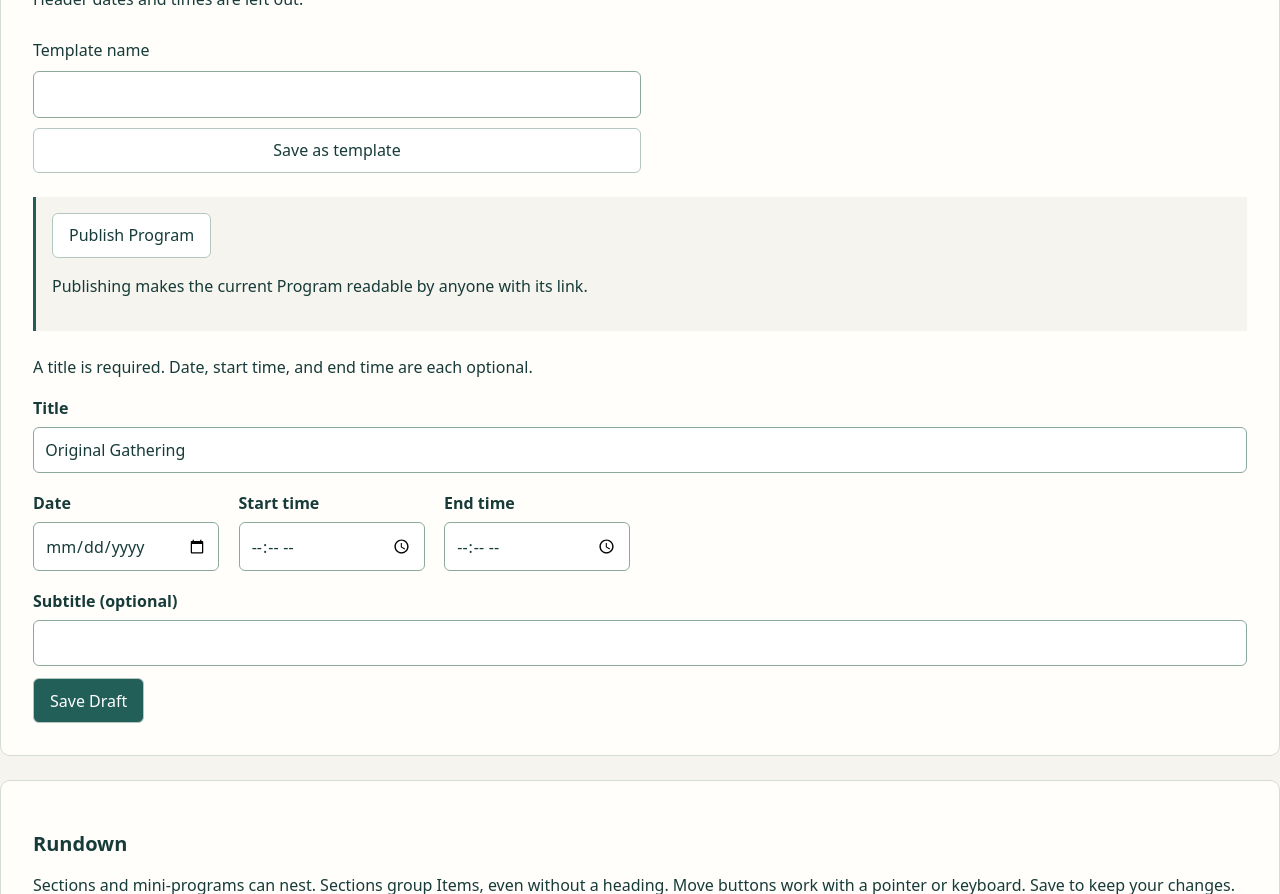
it: keeps Publish disabled until Header and rundown changes are saved
(page scrolled)
Expected: the button "Publish Program" is enabled, [52,213,211,258]
Replace the text in the field labelled "Title" with "New title" at (640, 450), box [33,427,1247,473]
(page scrolled)
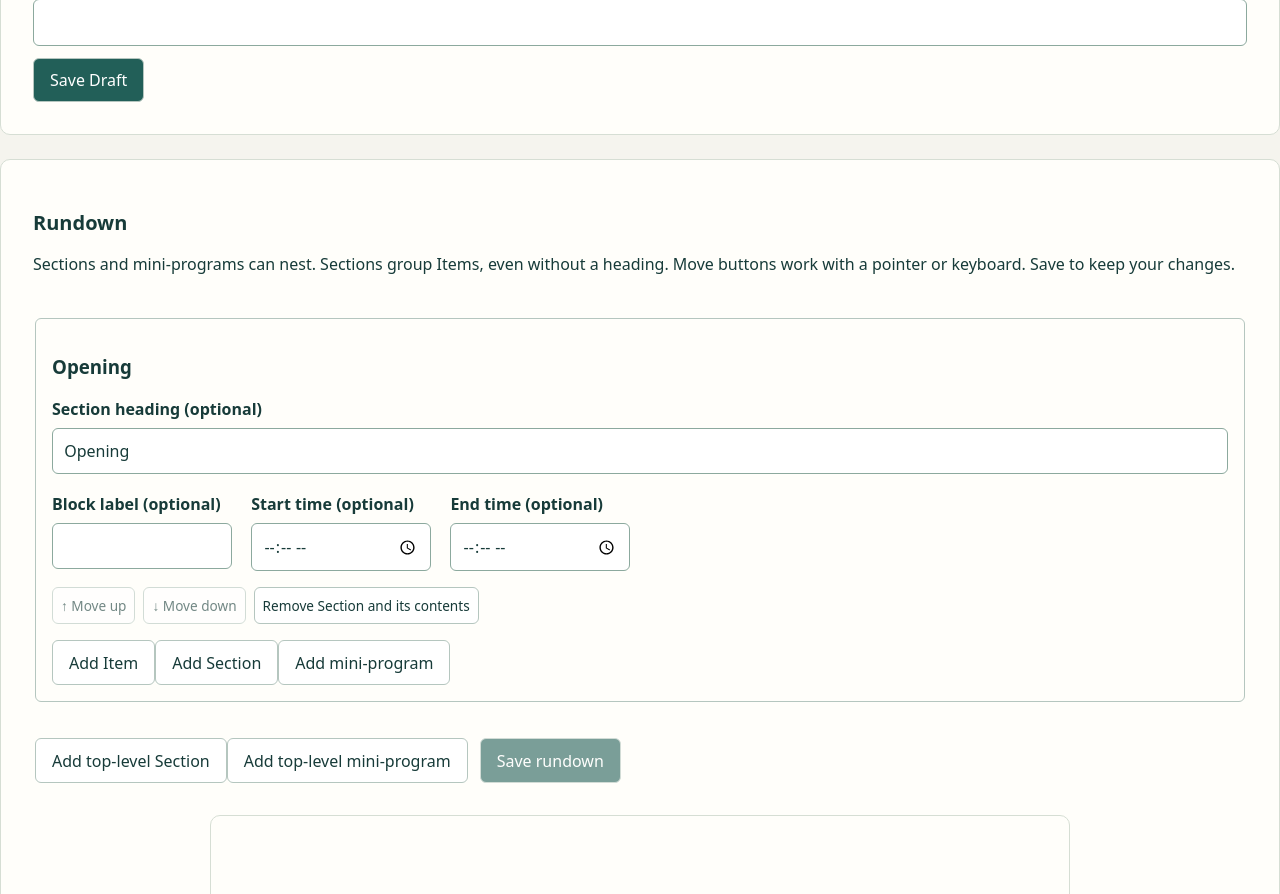
Replace the text in the field labelled "Section heading (optional)" with "Welcome" at (640, 451), box [52,428,1228,474]
(page scrolled)
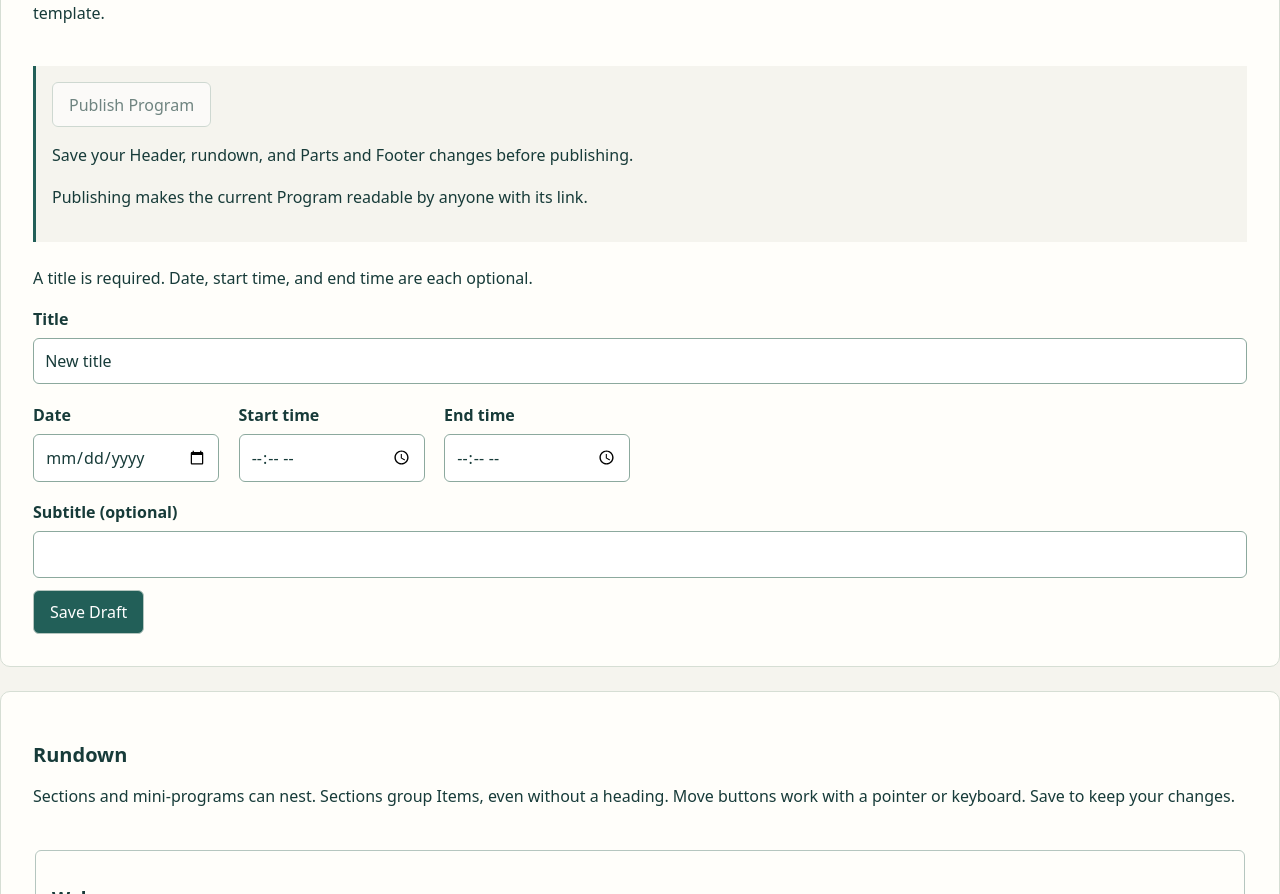
Expected: the button "Publish Program" is disabled, [52,82,211,127]
Expected: the text "Save your Header, rundown, and Parts and Footer changes before publishing." is shown, [52,144,633,166]
Submit the form named "Program Header", box [33,266,1247,634]
(page scrolled)
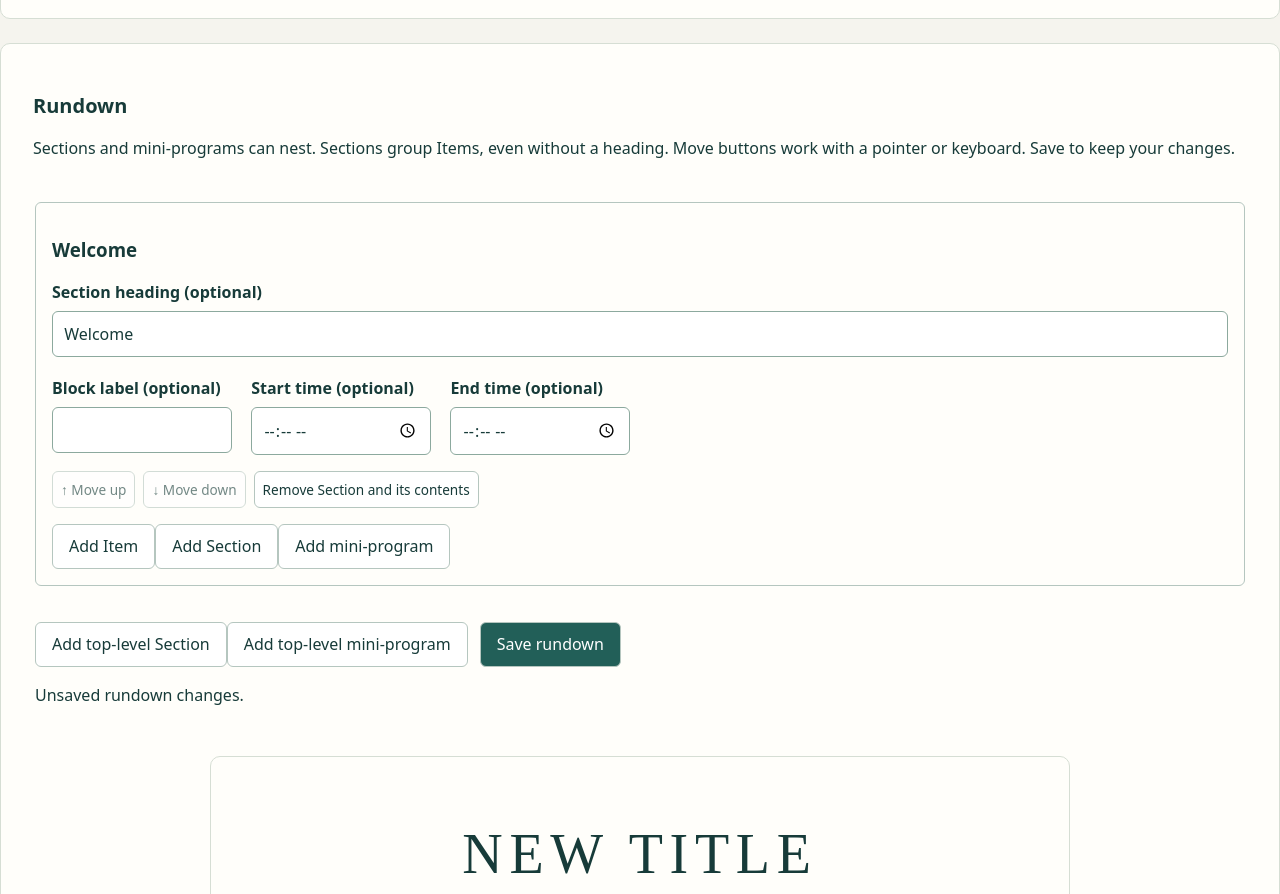
Submit the form named "Rundown", box [33,178,1247,724]
(page scrolled)
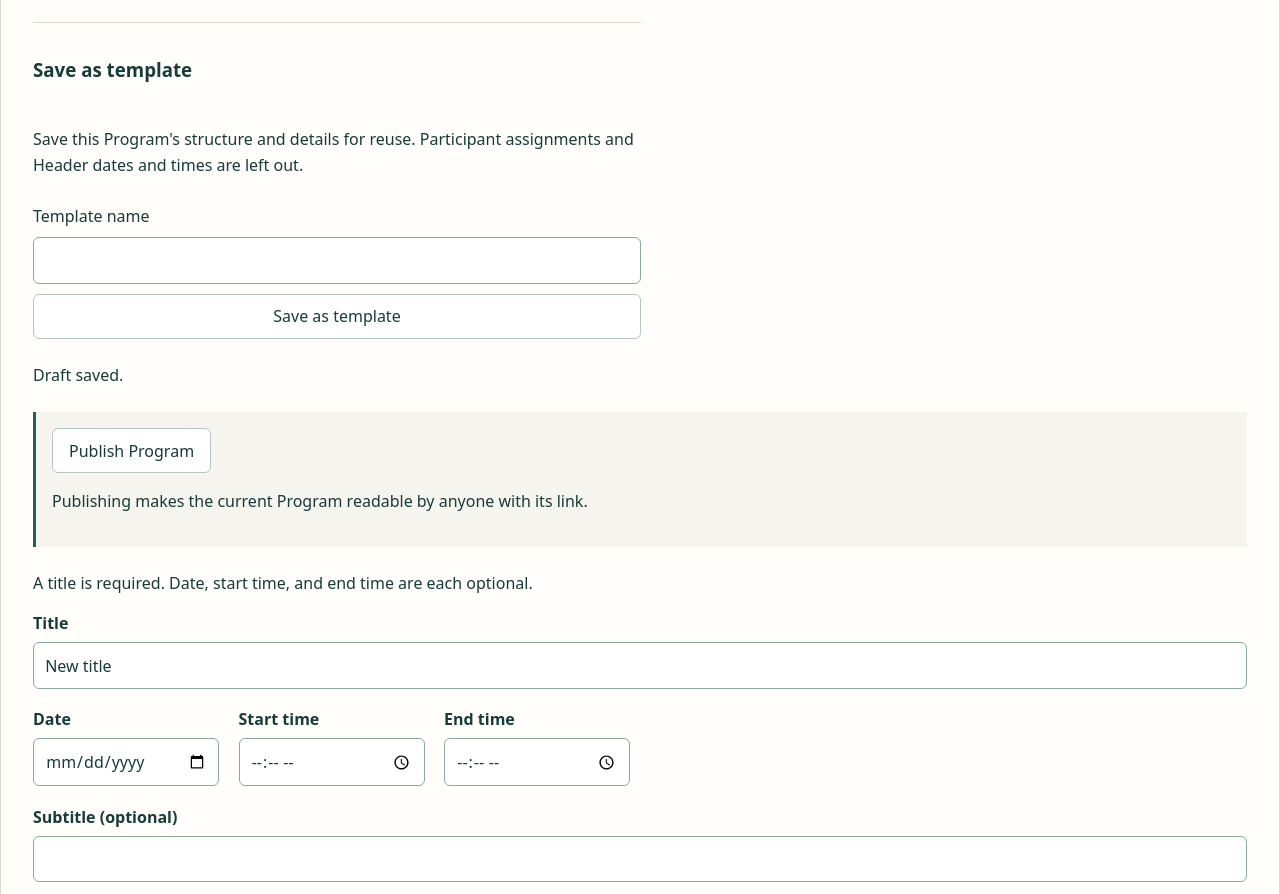
Expected: the button "Publish Program" is enabled
Click the button "Publish Program" at (132, 451), box [52,428,211,473]
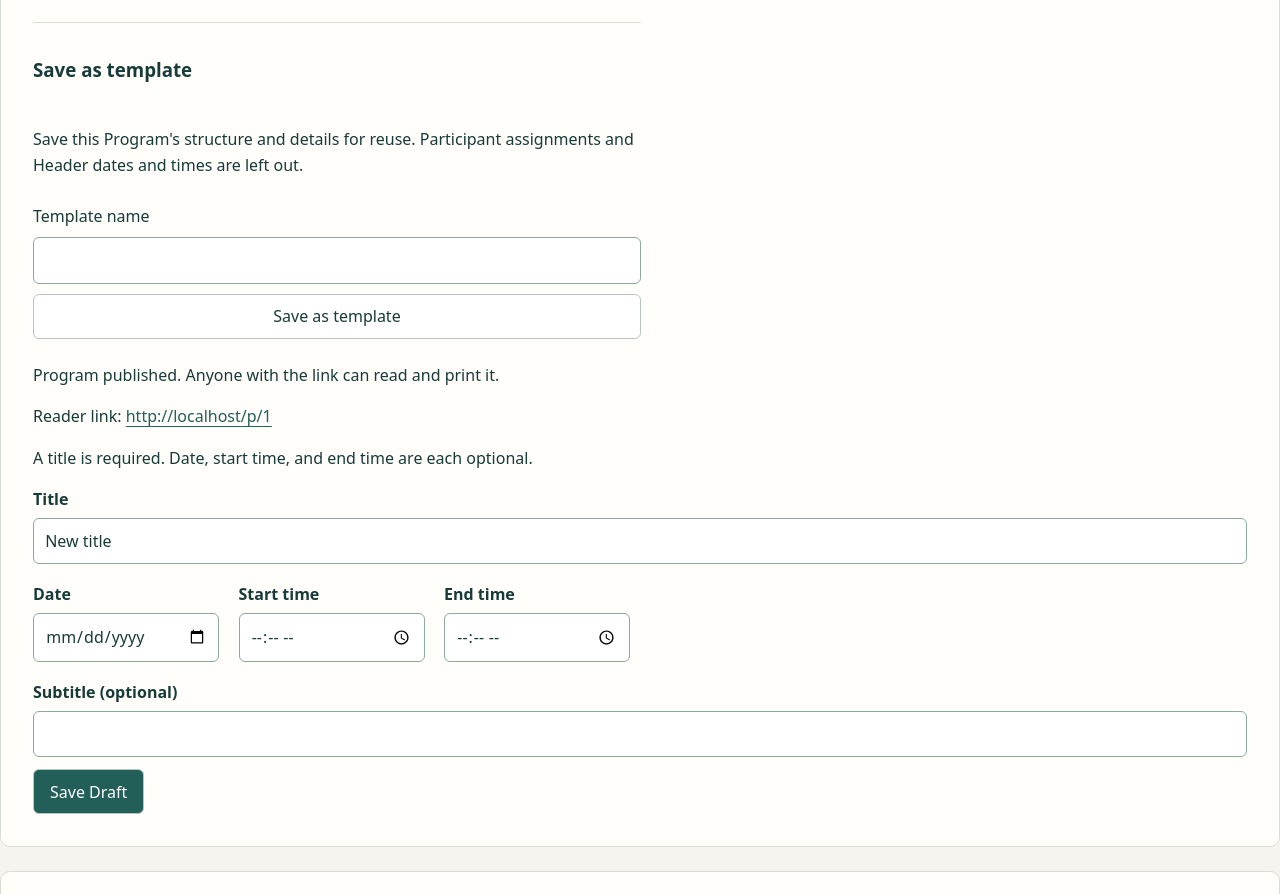
Expected: the text "Program published. Anyone with the link can read and print it." is shown, [33,364,499,386]
